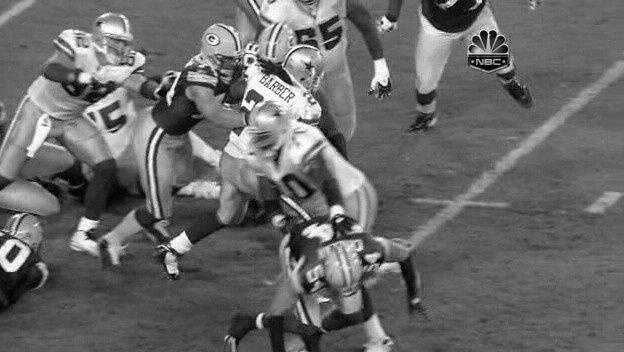person: (287, 47, 322, 92), (286, 47, 321, 92), (288, 47, 323, 92), (287, 46, 322, 91), (287, 48, 322, 93)
target_negative: (49, 187, 564, 334), (213, 212, 578, 310), (485, 31, 598, 168), (51, 15, 429, 41), (351, 149, 450, 248), (518, 102, 595, 144)
